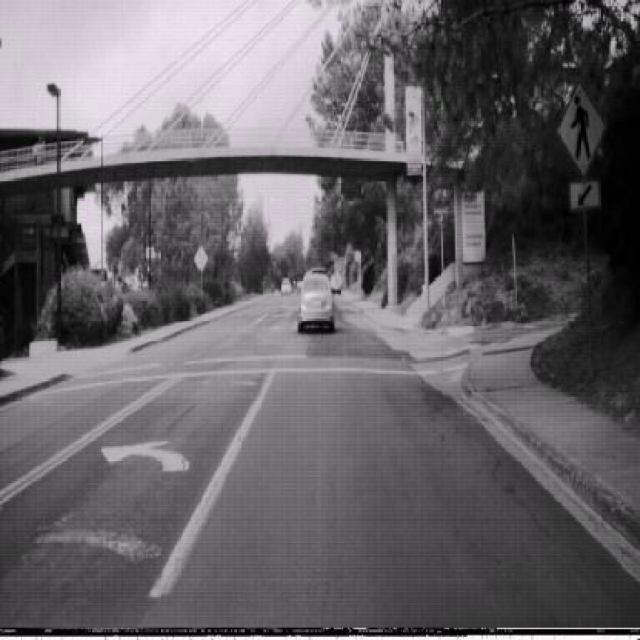pedestrianCrossing: (557, 78, 608, 180)
